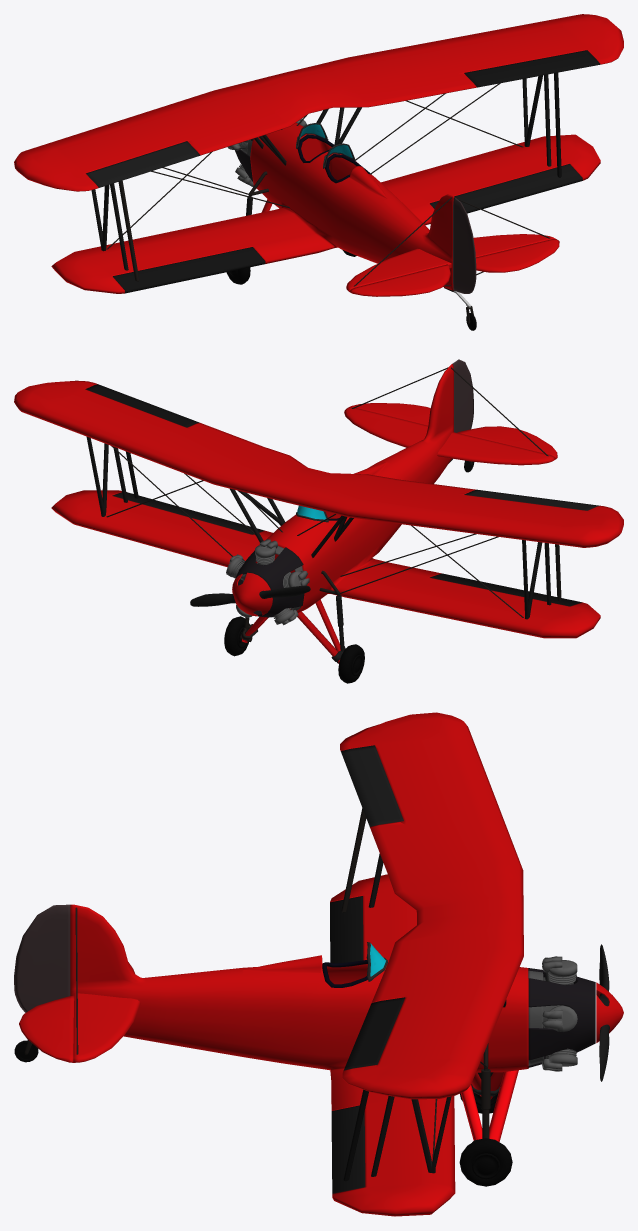
Rendered from smolplane.obj.
3 renders of one model, top to bottom at view 1: azimuth 30°, elevation 25°; view 2: azimuth 150°, elevation 25°; view 3: azimuth 270°, elevation 25°, orthographic. The views are drawn at different scales.
Visible parts, largest first — view 1: Fuselage, TopWing, Elevator, LBotAileron, WingStruts, TailHoriz, RBotAileron, R_TopAileron, L_TopAileron, Rudder, SpanWires, CockpitTrim (+2 smaller); view 2: TopWing, Fuselage, TailHoriz, WingStruts, Elevator, SpanWires, EngCowling1, Engine, Rudder, PropCone, R_TopAileron, RBotAileron (+6 smaller); view 3: TopWing, Fuselage, Rudder, EngCowling1, TailHoriz, L_TopAileron, Elevator, RBotAileron, Engine, R_TopAileron, LBotAileron, RWheel (+4 smaller).
Part boxes in pixels (box(x1,y1,x2,y2)): Fuselage: box(51, 123, 600, 293); TopWing: box(14, 14, 623, 191); Elevator: box(349, 239, 559, 296); LBotAileron: box(113, 247, 265, 293); WingStruts: box(91, 74, 551, 270); TailHoriz: box(346, 234, 555, 291); RBotAileron: box(430, 164, 582, 213); R_TopAileron: box(464, 50, 600, 87); L_TopAileron: box(86, 141, 200, 187); Rudder: box(453, 197, 476, 293); SpanWires: box(106, 83, 550, 286); CockpitTrim: box(297, 134, 371, 183); TopWing: box(14, 380, 623, 547); Fuselage: box(51, 364, 600, 638); TailHoriz: box(344, 407, 555, 465); WingStruts: box(86, 436, 551, 619); Elevator: box(350, 403, 557, 458); SpanWires: box(106, 367, 548, 617); EngCowling1: box(235, 547, 304, 617); Engine: box(226, 539, 309, 625); Rudder: box(452, 359, 473, 432); PropCone: box(232, 572, 272, 616); R_TopAileron: box(85, 384, 199, 427); RBotAileron: box(112, 492, 264, 534); TopWing: box(340, 712, 523, 1099); Fuselage: box(70, 874, 528, 1216); Rudder: box(14, 904, 70, 1012); EngCowling1: box(528, 968, 595, 1067); TailHoriz: box(73, 962, 140, 1062); L_TopAileron: box(341, 745, 403, 826); Elevator: box(19, 995, 74, 1062); RBotAileron: box(331, 1105, 365, 1193); Engine: box(542, 956, 577, 1071); R_TopAileron: box(343, 997, 405, 1070); LBotAileron: box(330, 896, 363, 963); RWheel: box(459, 1138, 512, 1186).
Bounding box in the file's own units: 3.17 × 0.9914 × 2.16.
